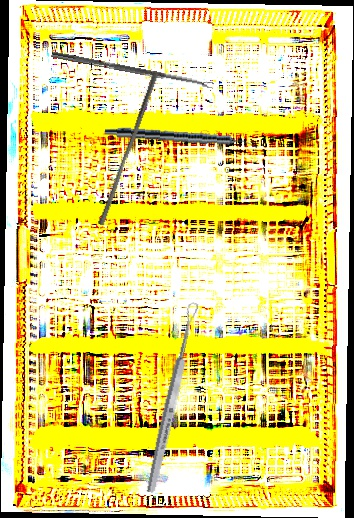Handpiece: (104, 125, 258, 151)
Pusher: (97, 68, 160, 228)
Surgical Spoon: (144, 301, 201, 494), (50, 51, 215, 90)
